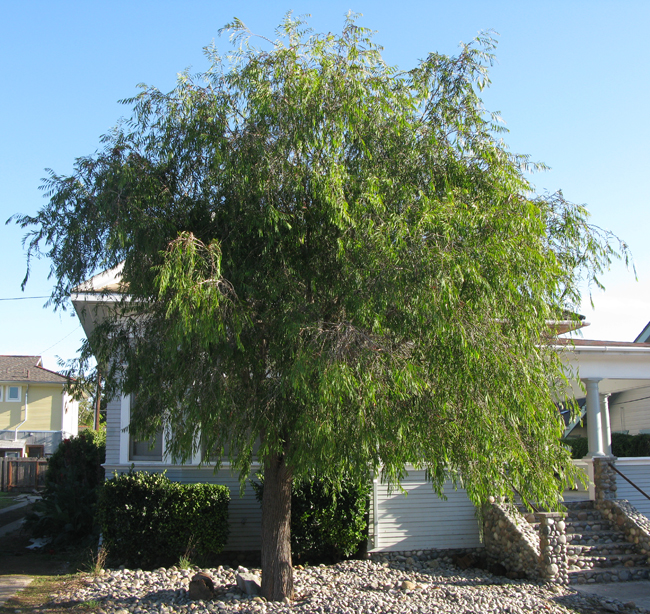tree: (6, 5, 638, 604)
